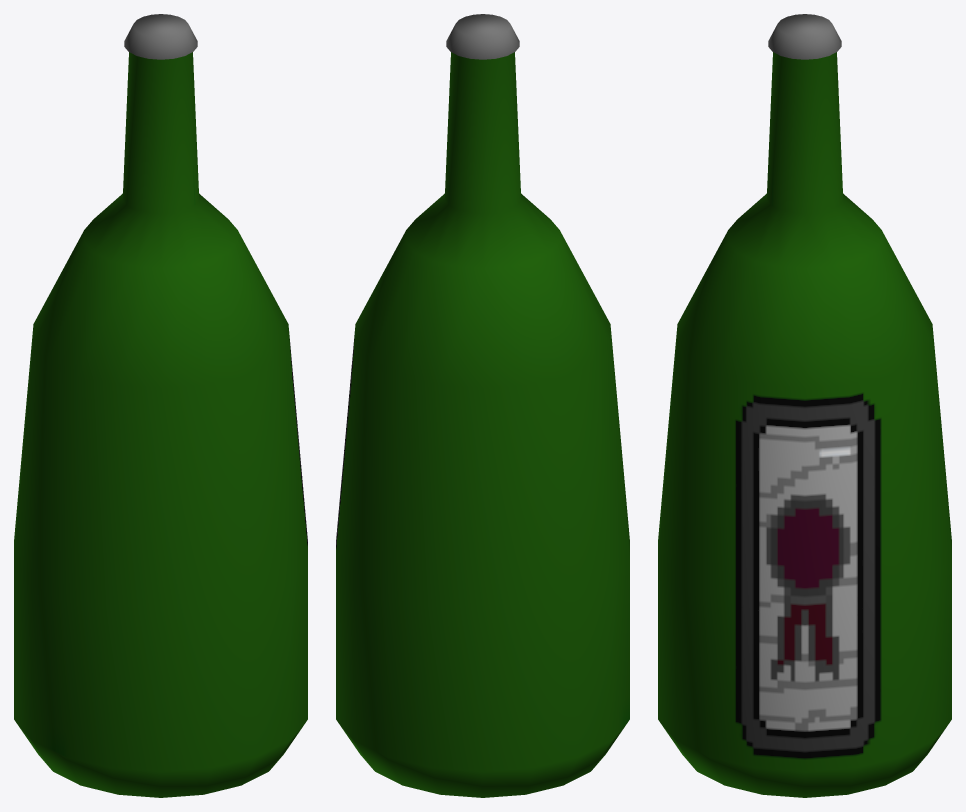
Rendered from Bottle.FBX.
3 renders of one model, left to right at view 1: azimuth 30°, elevation 25°; view 2: azimuth 150°, elevation 25°; view 3: azimuth 270°, elevation 25°, orthographic.
Parts seen in each view (by area): view 1: Cylinder001; view 2: Cylinder001; view 3: Cylinder001.
Part boxes in pixels (bbox=[...]): Cylinder001: bbox=[14, 14, 307, 797]; Cylinder001: bbox=[336, 14, 629, 797]; Cylinder001: bbox=[658, 14, 951, 797].
Size of the model in its own units: 0.0549 by 0.1461 by 0.0541.
